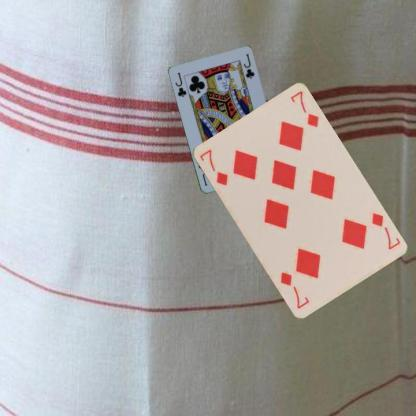7d: (368, 210, 402, 250), (196, 146, 229, 187)
Jc: (173, 70, 188, 98)
